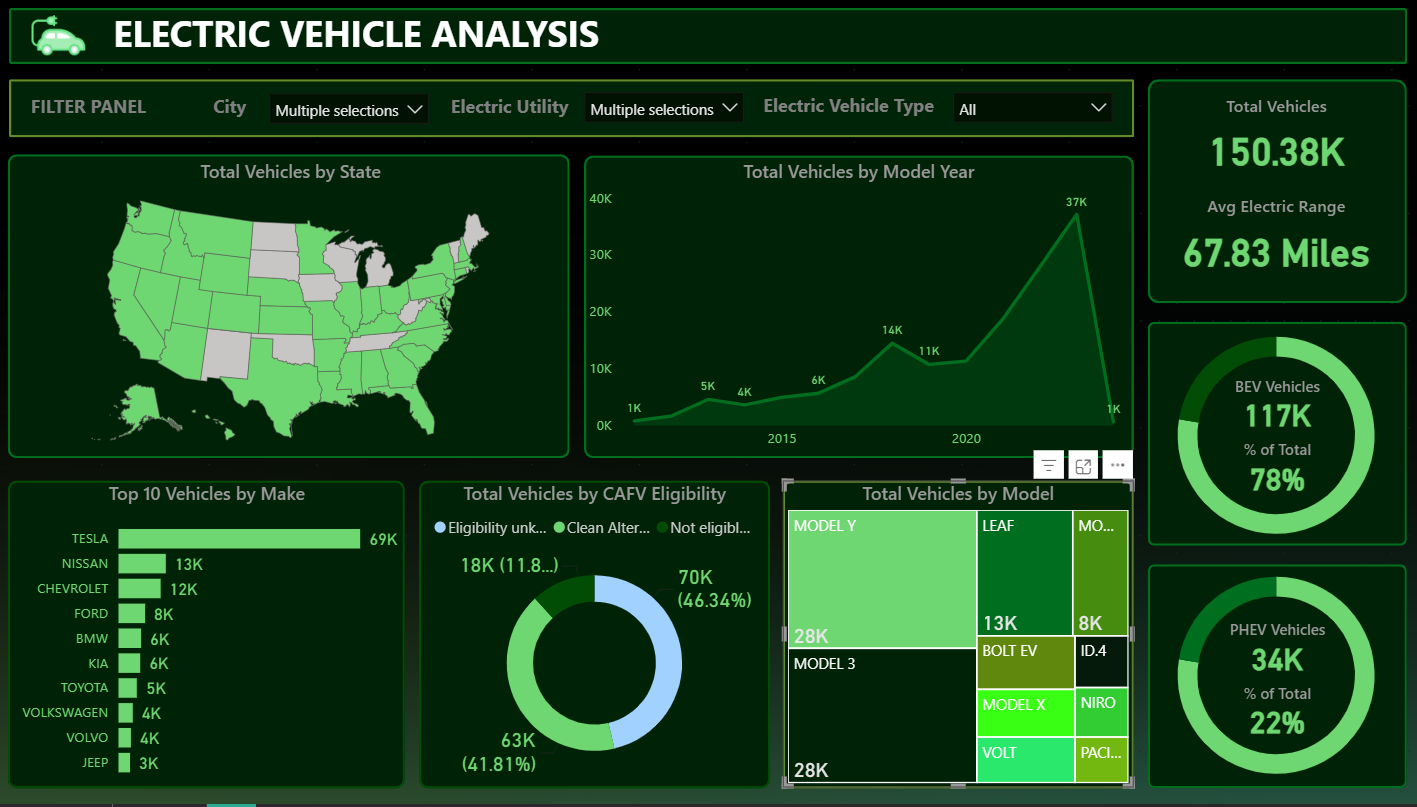

What the dashboard file says about the page in this screenshot:
{"tool":"powerbi","page":{"name":"Page 1","canvas":[1280,720],"ordinal":0},"visuals":[{"type":"shape","box":[12.9,8.6,1248.6,50],"z":0},{"type":"textbox","box":[101.3,4.8,450,57.9],"z":1000},{"type":"shape","box":[1030,72.9,231.4,200],"z":2000},{"type":"card","title":"Total Vehicles","fields":{"Values":["Electric_Vehicle_Population_Data.Total Vehicles"]},"box":[1058.6,85.7,174.3,77.1],"z":3000},{"type":"card","title":"Avg Electric Range","fields":{"Values":["Electric_Vehicle_Population_Data.Avg Range"]},"box":[1054.3,175.7,182.9,78.6],"z":4000},{"type":"shape","box":[1030,505.7,231.4,200],"z":5000},{"type":"shape","box":[1030,288.6,231.4,200],"z":6000},{"type":"donutChart","fields":{"Category":["Electric_Vehicle_Population_Data.Electric Vehicle Type"],"Y":["Electric_Vehicle_Population_Data.Total Vehicles"]},"box":[1018.6,275.7,254.3,230],"z":7000},{"type":"card","title":"BEV Vehicles","fields":{"Values":["Electric_Vehicle_Population_Data.BEV Vehicle"]},"box":[1085.7,337.1,120,51.4],"z":8000},{"type":"card","title":"% of Total","fields":{"Values":["Electric_Vehicle_Population_Data.% of BEV"]},"box":[1085.7,394.3,120,51.4],"z":9000},{"type":"donutChart","fields":{"Category":["Electric_Vehicle_Population_Data.Electric Vehicle Type"],"Y":["Electric_Vehicle_Population_Data.Total Vehicles"]},"box":[1018.6,490,254.3,230],"z":10000},{"type":"card","title":"PHEV Vehicles","fields":{"Values":["Electric_Vehicle_Population_Data.PHEV Vehicle"]},"box":[1085.7,554.3,120,51.4],"z":11000},{"type":"card","title":"% of Total","fields":{"Values":["Electric_Vehicle_Population_Data.% of PHEV"]},"box":[1085.7,611.4,120,51.4],"z":12000},{"type":"shape","box":[13.3,72.4,1005,51.9],"z":13000},{"type":"shape","box":[527.2,141.2,491,270.2],"z":14000},{"type":"areaChart","fields":{"Category":["Electric_Vehicle_Population_Data.Model Year"],"Y":["Electric_Vehicle_Population_Data.Total Vehicles"]},"box":[527.2,142.4,491,269],"z":15000},{"type":"shape","box":[12.1,139.9,501.9,271.4],"z":16000},{"type":"shapeMap","fields":{"Category":["Electric_Vehicle_Population_Data.State"],"Value":["Electric_Vehicle_Population_Data.Total Vehicles"]},"box":[13.3,142.4,503.1,269],"z":17000},{"type":"shape","box":[12.1,430.7,354.7,275.1],"z":18000},{"type":"barChart","title":"Top 10 Vehicles by Make","fields":{"Category":["Electric_Vehicle_Population_Data.Make"],"Y":["Electric_Vehicle_Population_Data.Total Vehicles"]},"box":[13.3,430.7,353.5,275.1],"z":19000},{"type":"shape","box":[380,430.7,313.7,275.1],"z":20000},{"type":"donutChart","title":"Total Vehicles by CAFV Eligibility","fields":{"Category":["Electric_Vehicle_Population_Data.Clean Alternative Fuel Vehicle (CAFV) Eligibility"],"Y":["Electric_Vehicle_Population_Data.Total Vehicles"]},"box":[380,430.7,313.7,275.1],"z":21000},{"type":"shape","box":[704.6,430.7,313.7,275.1],"z":22000},{"type":"treemap","fields":{"Group":["Electric_Vehicle_Population_Data.Model"],"Values":["Electric_Vehicle_Population_Data.Total Vehicles"]},"box":[704.6,430.7,313.7,275.1],"z":23000},{"type":"textbox","box":[27.7,80.8,147.2,36.2],"z":24000},{"type":"slicer","fields":{"Values":["Electric_Vehicle_Population_Data.City"]},"box":[235,74.8,162.9,47.1],"z":25000},{"type":"textbox","box":[190.6,80.8,45.8,36.2],"z":26000},{"type":"slicer","fields":{"Values":["Electric_Vehicle_Population_Data.Electric Utility"]},"box":[516.4,73.6,162.9,47.1],"z":27000},{"type":"textbox","box":[403,80.8,124.3,36.2],"z":28000},{"type":"slicer","fields":{"Values":["Electric_Vehicle_Population_Data.Electric Vehicle Type"]},"box":[845.7,73.6,162.9,47.1],"z":29000},{"type":"textbox","box":[681.6,79.6,182.2,36.2],"z":30000},{"type":"image","box":[27.7,4.8,59.1,57.9],"z":31000}]}

Visuals, with their boxes in screenshot pixels (x1, y1, x2, y2), scaled from the page's 1280x720 canvas onto the 1417x807 screenshot:
shape: x1=14, y1=10, x2=1397, y2=66
textbox: x1=112, y1=5, x2=610, y2=70
shape: x1=1140, y1=82, x2=1396, y2=306
"Total Vehicles" card: x1=1172, y1=96, x2=1365, y2=182
"Avg Electric Range" card: x1=1167, y1=197, x2=1370, y2=285
shape: x1=1140, y1=567, x2=1396, y2=791
shape: x1=1140, y1=323, x2=1396, y2=548
donutChart - Electric_Vehicle_Population_Data.Electric Vehicle Type x Electric_Vehicle_Population_Data.Total Vehicles: x1=1128, y1=309, x2=1409, y2=567
"BEV Vehicles" card: x1=1202, y1=378, x2=1335, y2=435
"% of Total" card: x1=1202, y1=442, x2=1335, y2=500
donutChart - Electric_Vehicle_Population_Data.Electric Vehicle Type x Electric_Vehicle_Population_Data.Total Vehicles: x1=1128, y1=549, x2=1409, y2=806
"PHEV Vehicles" card: x1=1202, y1=621, x2=1335, y2=679
"% of Total" card: x1=1202, y1=685, x2=1335, y2=743
shape: x1=15, y1=81, x2=1127, y2=139
shape: x1=584, y1=158, x2=1127, y2=461
areaChart - Electric_Vehicle_Population_Data.Model Year x Electric_Vehicle_Population_Data.Total Vehicles: x1=584, y1=160, x2=1127, y2=461
shape: x1=13, y1=157, x2=569, y2=461
shapeMap - Electric_Vehicle_Population_Data.State x Electric_Vehicle_Population_Data.Total Vehicles: x1=15, y1=160, x2=572, y2=461
shape: x1=13, y1=483, x2=406, y2=791
"Top 10 Vehicles by Make" barChart: x1=15, y1=483, x2=406, y2=791
shape: x1=421, y1=483, x2=768, y2=791
"Total Vehicles by CAFV Eligibility" donutChart: x1=421, y1=483, x2=768, y2=791
shape: x1=780, y1=483, x2=1127, y2=791
treemap - Electric_Vehicle_Population_Data.Model x Electric_Vehicle_Population_Data.Total Vehicles: x1=780, y1=483, x2=1127, y2=791
textbox: x1=31, y1=91, x2=194, y2=131
slicer - Electric_Vehicle_Population_Data.City: x1=260, y1=84, x2=440, y2=137
textbox: x1=211, y1=91, x2=262, y2=131
slicer - Electric_Vehicle_Population_Data.Electric Utility: x1=572, y1=82, x2=752, y2=135
textbox: x1=446, y1=91, x2=584, y2=131
slicer - Electric_Vehicle_Population_Data.Electric Vehicle Type: x1=936, y1=82, x2=1117, y2=135
textbox: x1=755, y1=89, x2=956, y2=130
image: x1=31, y1=5, x2=96, y2=70
